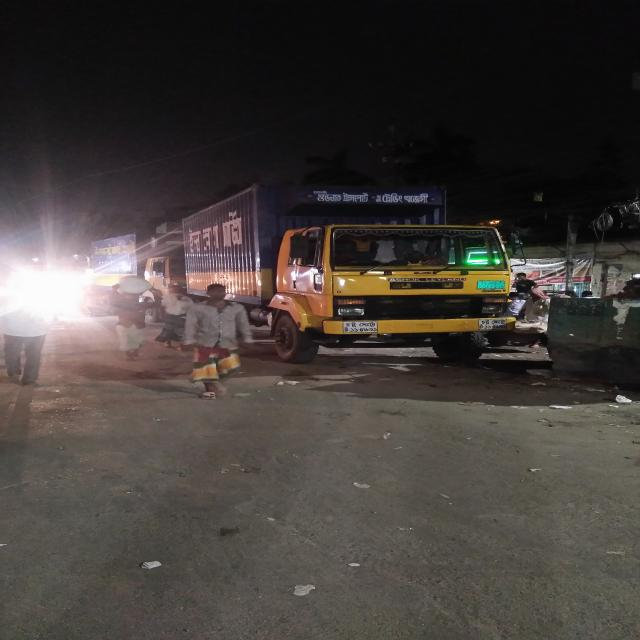truck: (178, 176, 532, 377)
